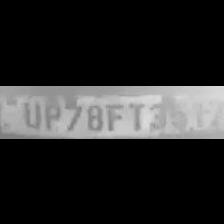3: (147, 98, 171, 130)
7: (61, 99, 81, 131)
8: (83, 99, 105, 130)
F: (105, 99, 125, 131)
P: (41, 97, 61, 129)
T: (124, 99, 146, 131)
U: (19, 97, 41, 127)
